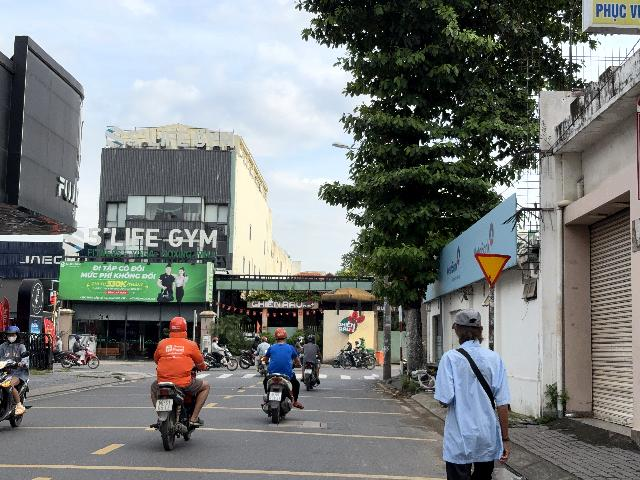giao-nhau-voi-duong-uu-tien: (475, 252, 511, 287)
